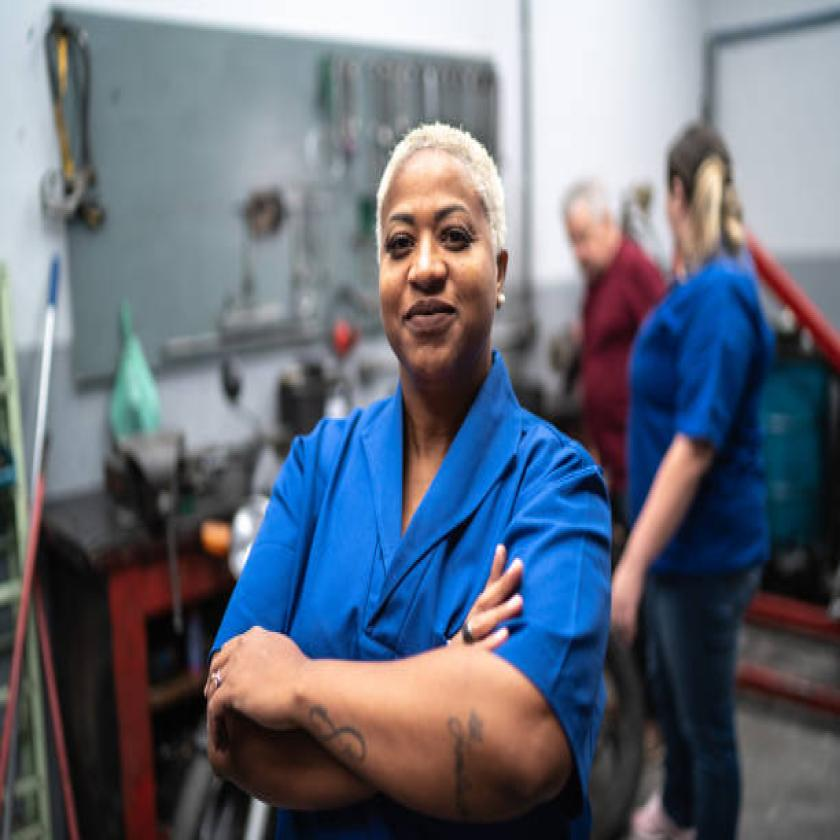Sin_casco: (374, 119, 516, 392)
